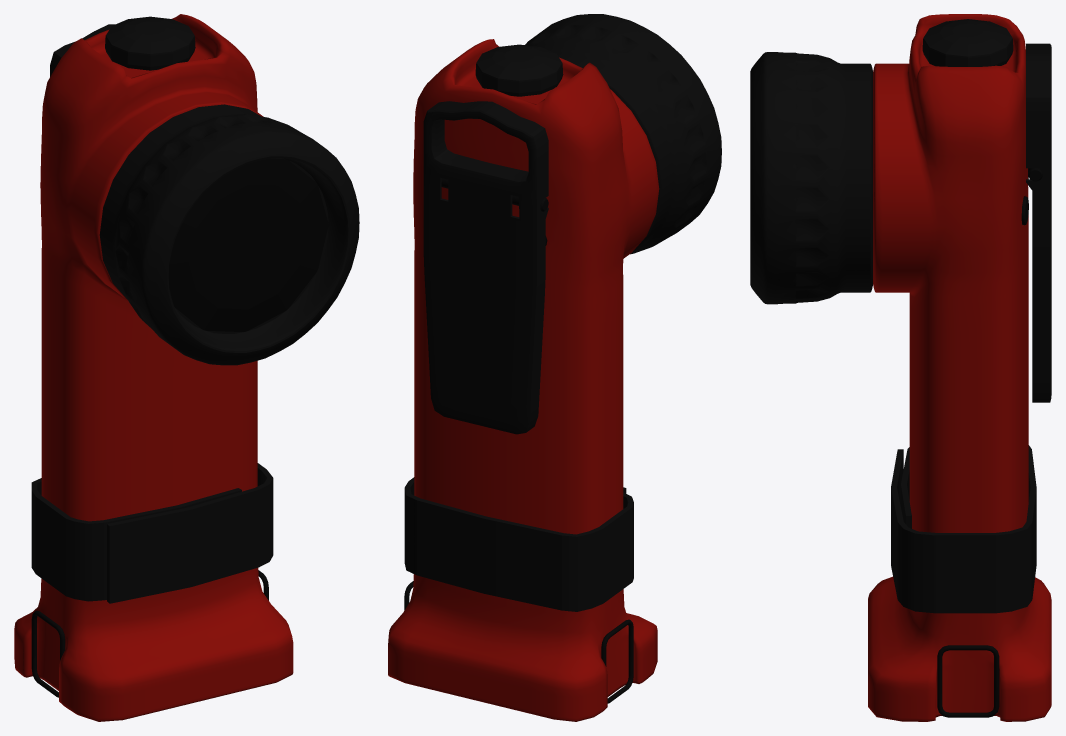
File: TS_flashlight-001.FBX
The picture shows the model from 3 angles, left to right: view 1: azimuth 30°, elevation 25°; view 2: azimuth 150°, elevation 25°; view 3: azimuth 270°, elevation 25°; orthographic projection. The views are drawn at different scales.
Visible parts, largest first — view 1: flashlight_body_divide, flashlightLense_housing_divide, lashlight_lense_divide, strap_divide, flashlight_button_divide, flashlight_rings-002; view 2: flashlight_body_divide, clip_divide, strap_divide, flashlightLense_housing_divide, flashlight_button_divide, flashlight_rings-002; view 3: flashlight_body_divide, flashlightLense_housing_divide, strap_divide, clip_divide, flashlight_button_divide, flashlight_rings-002.
Boxes of the visible parts, <box> form: flashlight_body_divide: <box>14,14,293,721</box>; flashlightLense_housing_divide: <box>99,104,359,365</box>; lashlight_lense_divide: <box>168,158,328,332</box>; strap_divide: <box>31,463,273,603</box>; flashlight_button_divide: <box>105,16,195,70</box>; flashlight_rings-002: <box>31,570,268,697</box>; flashlight_body_divide: <box>388,39,659,721</box>; clip_divide: <box>423,101,548,434</box>; strap_divide: <box>404,477,633,611</box>; flashlightLense_housing_divide: <box>525,14,721,254</box>; flashlight_button_divide: <box>475,44,563,96</box>; flashlight_rings-002: <box>404,581,633,703</box>; flashlight_body_divide: <box>868,14,1051,721</box>; flashlightLense_housing_divide: <box>750,52,872,304</box>; strap_divide: <box>891,445,1036,613</box>; clip_divide: <box>1026,43,1051,402</box>; flashlight_button_divide: <box>922,19,1013,66</box>; flashlight_rings-002: <box>937,645,999,717</box>.
Size of the model in its own units: 2.93 by 8.22 by 3.51.
